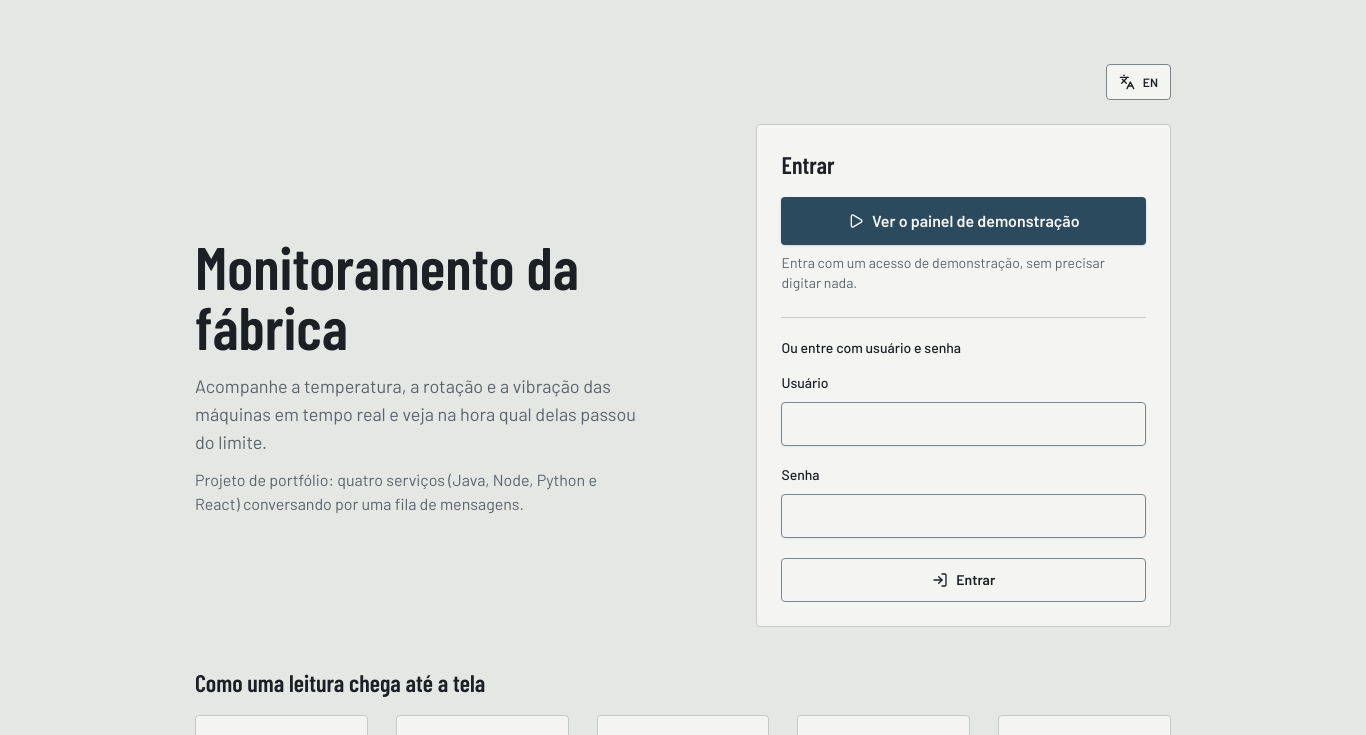
Test case: demonstração instantânea › quem sai da simulação não é levado ao painel quando o login chega depois
Click the button "Ver o painel de demonstração".
click(964, 221)  # box [782,197,1146,245]
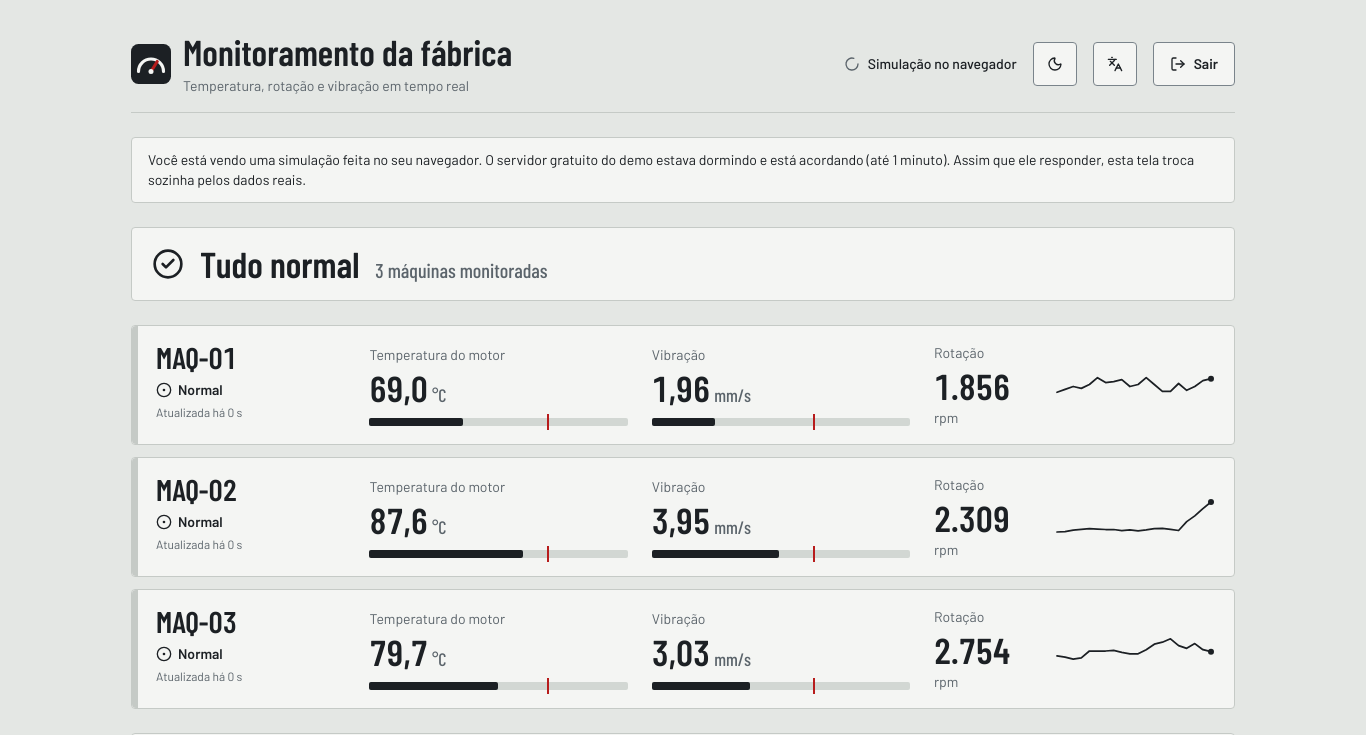
Now the text "Simulação no navegador" is shown, box [868,54,1017,74]
Click the button "Sair".
click(1194, 64)  # box [1153,42,1235,86]
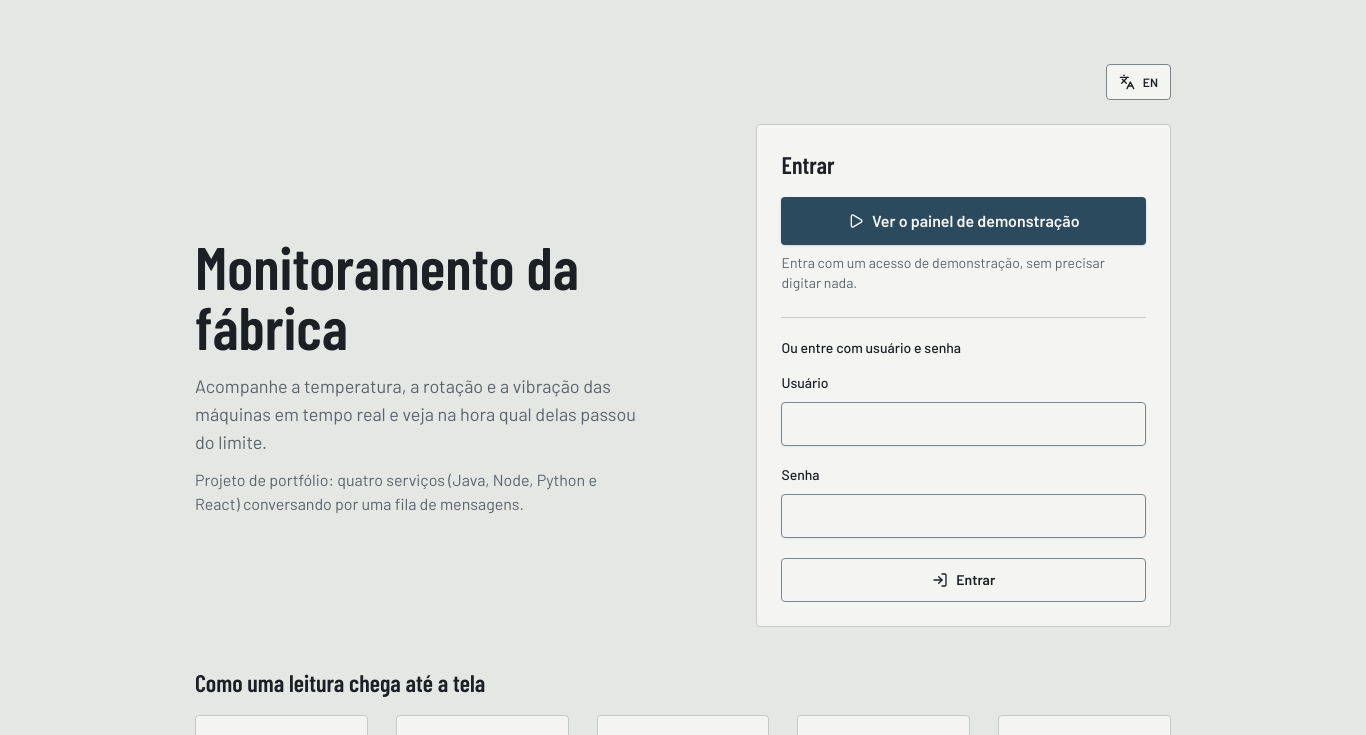
Now the heading "Entrar" is shown, box [782,150,835,179]
